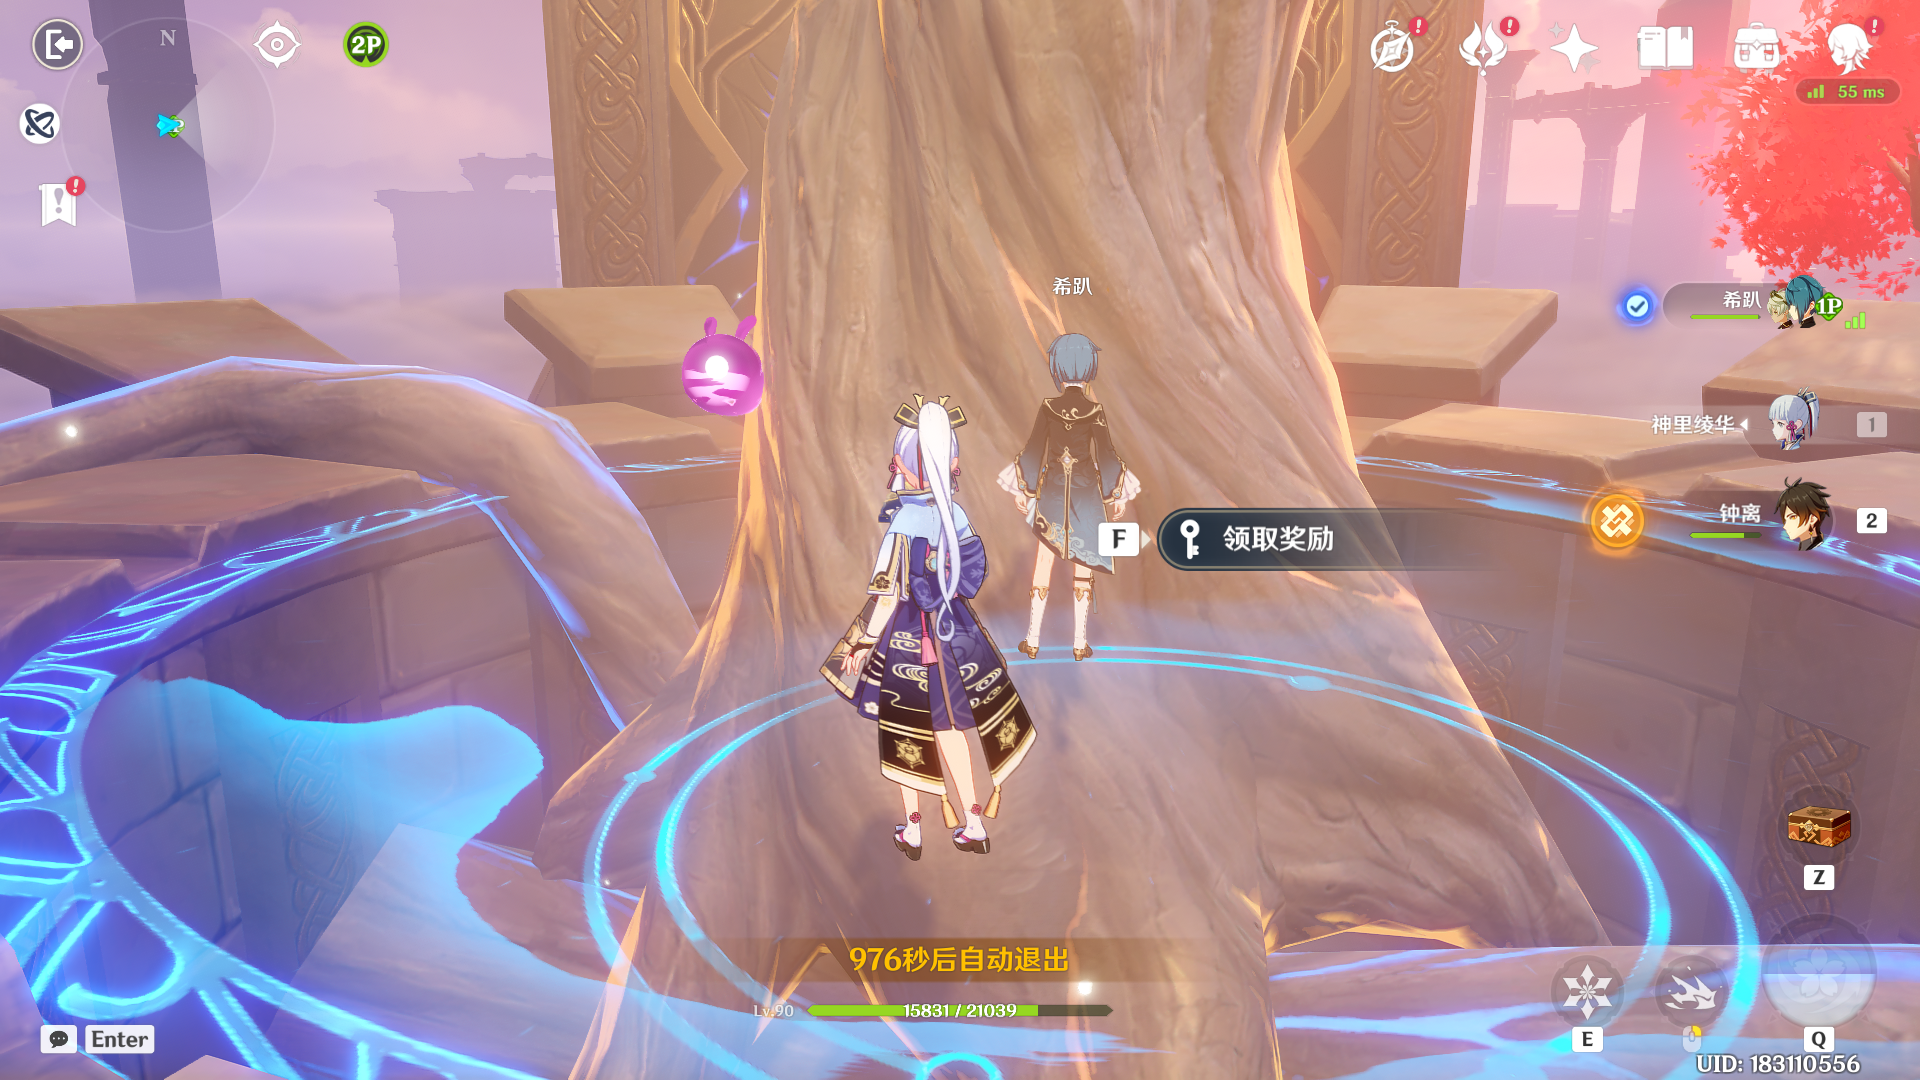character: (794, 388, 1058, 885), (977, 332, 1174, 682)
